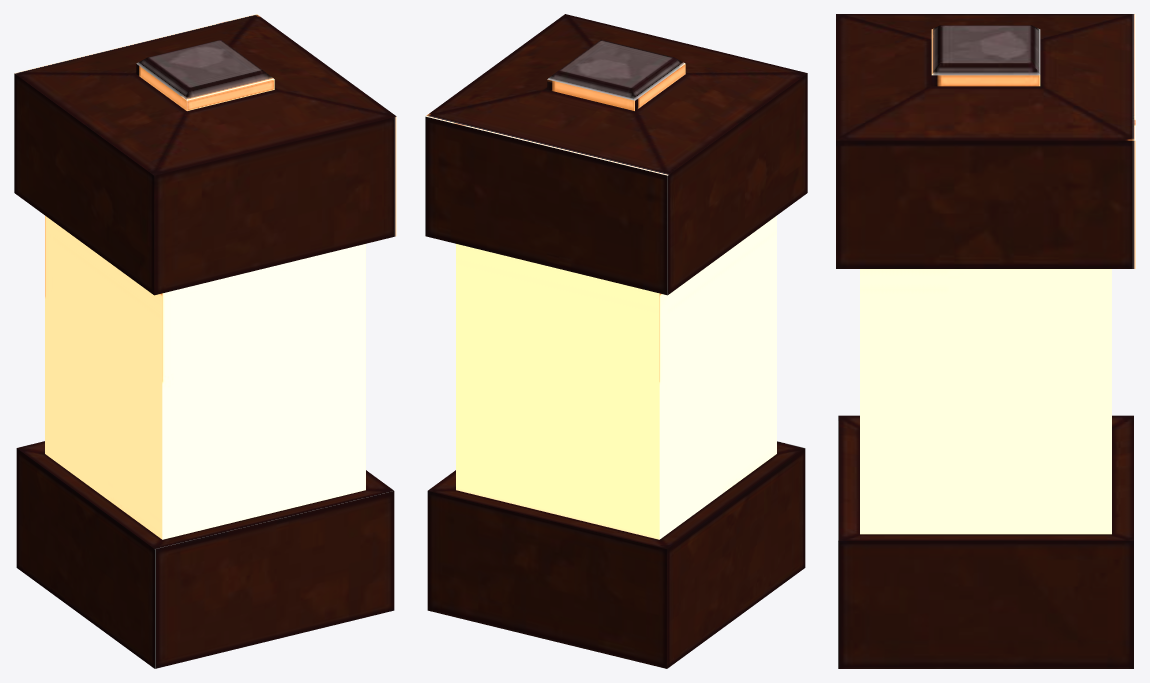
The model's file is Lamp.fbx.
3 renders of one model, left to right at view 1: azimuth 30°, elevation 25°; view 2: azimuth 150°, elevation 25°; view 3: azimuth 270°, elevation 25°, orthographic. The views are drawn at different scales.
Visible parts, largest first — view 1: Cube; view 2: Cube; view 3: Cube.
Part boxes in pixels (left/top/right/bottom): Cube: left=14, top=14, right=396, bottom=668; Cube: left=425, top=14, right=807, bottom=668; Cube: left=836, top=14, right=1135, bottom=668.
Bounding box in the file's own units: 203 × 419 × 203.
Materials: 1 (1 with a texture image).
